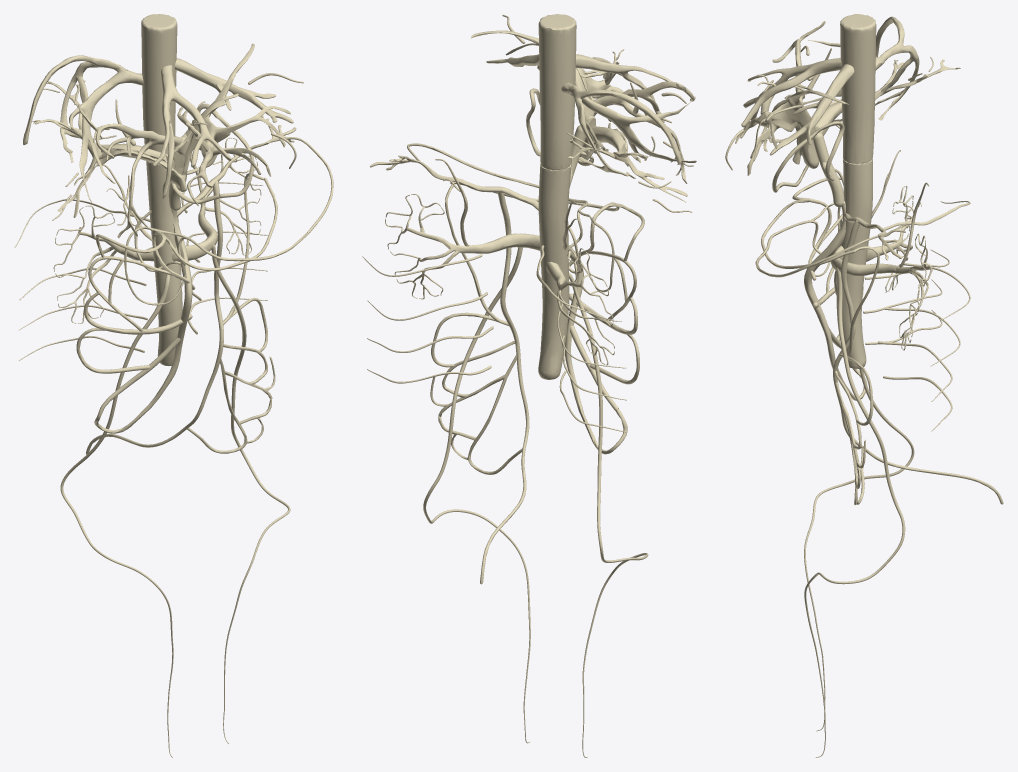
The model's file is bodyparts3d-venous-abdomen.glb.
3 renders of one model, left to right at view 1: azimuth 30°, elevation 25°; view 2: azimuth 150°, elevation 25°; view 3: azimuth 270°, elevation 25°, orthographic. The views are drawn at different scales.
Visible parts, largest first — view 1: venous-inferior-vena-cava, venous-left-portal-vein, venous-right-hepatic-vein, venous-right-portal-vein, venous-middle-hepatic-vein, venous-lumbar-veins, venous-testicular-vein-right, venous-superior-mesenteric-vein, venous-testicular-vein-left, venous-renal-vein-left, venous-renal-vein-right, venous-right-colic-vein (+9 smaller); view 2: venous-inferior-vena-cava, venous-right-hepatic-vein, venous-left-portal-vein, venous-renal-vein-left, venous-lumbar-veins, venous-right-portal-vein, venous-testicular-vein-left, venous-testicular-vein-right, venous-sigmoid-vein, venous-renal-vein-right, venous-superior-mesenteric-vein, venous-inferior-mesenteric-vein (+8 smaller); view 3: venous-inferior-vena-cava, venous-left-portal-vein, venous-lumbar-veins, venous-testicular-vein-left, venous-renal-vein-left, venous-middle-hepatic-vein, venous-right-hepatic-vein, venous-superior-mesenteric-vein, venous-left-hepatic-vein, venous-testicular-vein-right, venous-right-portal-vein, venous-sigmoid-vein (+8 smaller).
Part boxes in pixels (x1=…): venous-inferior-vena-cava: x1=141, y1=14, x2=182, y2=365; venous-left-portal-vein: x1=78, y1=43, x2=303, y2=237; venous-right-hepatic-vein: x1=23, y1=55, x2=143, y2=204; venous-right-portal-vein: x1=32, y1=76, x2=174, y2=226; venous-middle-hepatic-vein: x1=152, y1=65, x2=231, y2=196; venous-lumbar-veins: x1=14, y1=182, x2=268, y2=360; venous-testicular-vein-right: x1=60, y1=274, x2=173, y2=757; venous-superior-mesenteric-vein: x1=94, y1=209, x2=192, y2=433; venous-testicular-vein-left: x1=211, y1=244, x2=290, y2=743; venous-renal-vein-left: x1=171, y1=137, x2=261, y2=261; venous-renal-vein-right: x1=53, y1=205, x2=153, y2=323; venous-right-colic-vein: x1=84, y1=256, x2=192, y2=334; venous-inferior-vena-cava: x1=538, y1=14, x2=576, y2=379; venous-right-hepatic-vein: x1=561, y1=82, x2=696, y2=178; venous-left-portal-vein: x1=471, y1=14, x2=695, y2=183; venous-renal-vein-left: x1=385, y1=194, x2=540, y2=299; venous-lumbar-veins: x1=362, y1=245, x2=626, y2=432; venous-right-portal-vein: x1=567, y1=82, x2=693, y2=212; venous-testicular-vein-left: x1=423, y1=247, x2=530, y2=743; venous-testicular-vein-right: x1=569, y1=272, x2=648, y2=757; venous-sigmoid-vein: x1=430, y1=341, x2=522, y2=474; venous-renal-vein-right: x1=546, y1=248, x2=614, y2=365; venous-superior-mesenteric-vein: x1=565, y1=245, x2=627, y2=454; venous-inferior-mesenteric-vein: x1=497, y1=192, x2=529, y2=447; venous-inferior-vena-cava: x1=836, y1=14, x2=876, y2=368; venous-left-portal-vein: x1=725, y1=21, x2=848, y2=175; venous-lumbar-veins: x1=863, y1=201, x2=970, y2=431; venous-testicular-vein-left: x1=804, y1=267, x2=905, y2=757; venous-renal-vein-left: x1=831, y1=233, x2=932, y2=350; venous-middle-hepatic-vein: x1=741, y1=58, x2=841, y2=127; venous-right-hepatic-vein: x1=803, y1=16, x2=919, y2=120; venous-superior-mesenteric-vein: x1=804, y1=201, x2=867, y2=400; venous-left-hepatic-vein: x1=769, y1=64, x2=854, y2=155; venous-testicular-vein-right: x1=804, y1=270, x2=914, y2=731; venous-right-portal-vein: x1=766, y1=45, x2=960, y2=140; venous-sigmoid-vein: x1=834, y1=371, x2=865, y2=504.
Bounding box in the file's own units: 0.2081 × 0.5011 × 0.1769.
